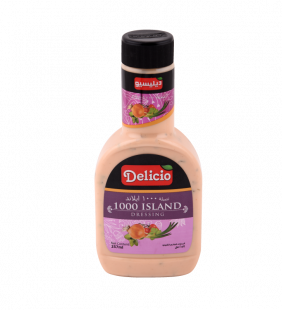DELICIO: (89, 25, 208, 282)
